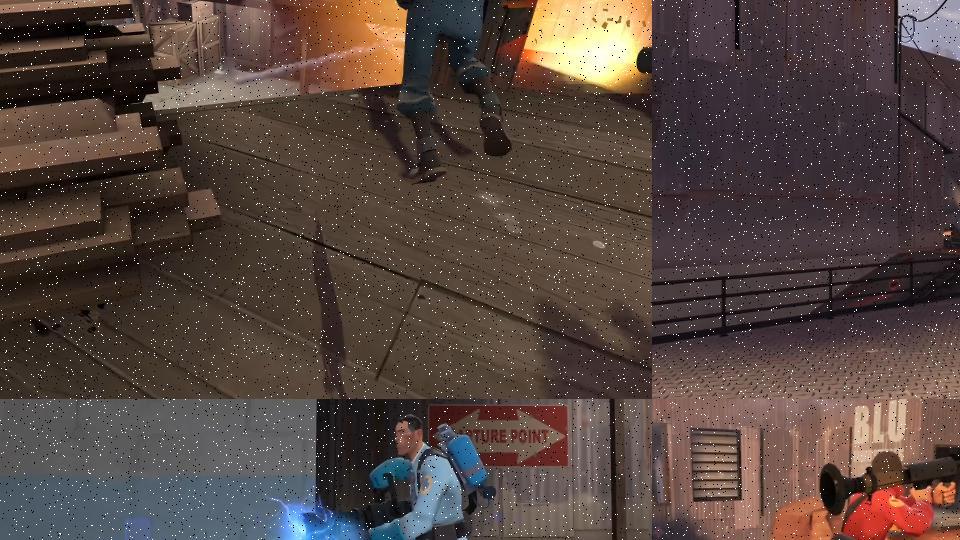Enemy: (295, 403, 555, 540), (390, 0, 569, 186), (761, 446, 960, 540)
